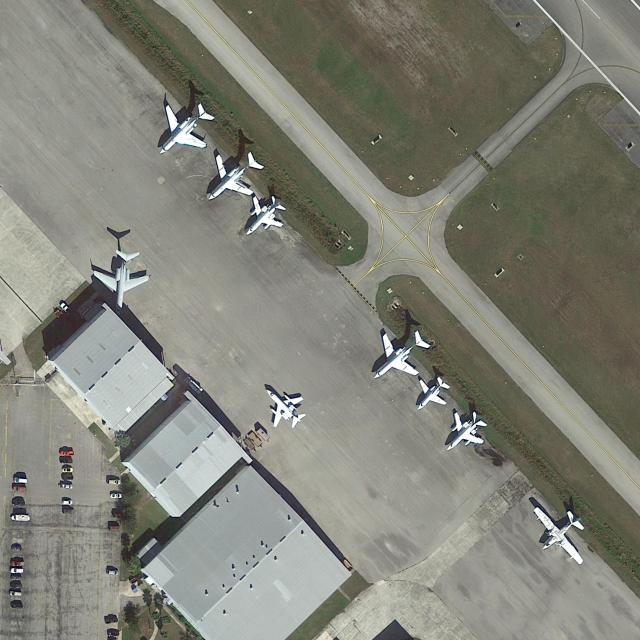large-vehicle: (184, 376, 203, 394), (11, 515, 31, 521)
plane: (137, 87, 227, 174), (357, 311, 443, 399), (520, 489, 605, 575), (191, 138, 274, 222), (91, 245, 154, 322), (430, 400, 498, 467), (231, 184, 294, 249), (251, 376, 313, 440), (403, 367, 459, 421)
small-vehicle: (59, 302, 73, 315), (104, 616, 119, 625), (60, 450, 75, 457), (108, 630, 120, 638), (106, 569, 119, 576), (13, 485, 26, 492), (14, 478, 28, 484), (12, 500, 26, 506), (13, 508, 26, 514), (9, 591, 22, 597), (11, 568, 24, 574), (108, 479, 121, 485), (110, 493, 123, 499), (61, 458, 74, 464), (11, 561, 24, 567), (60, 484, 73, 490), (62, 500, 73, 506), (62, 468, 74, 473), (12, 583, 22, 589), (11, 576, 23, 581), (12, 546, 22, 552), (63, 508, 74, 513), (11, 603, 22, 608), (108, 526, 119, 531), (62, 475, 73, 480)
